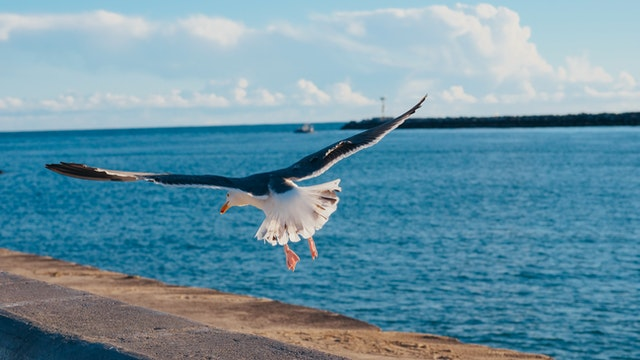bird: (45, 92, 427, 272)
